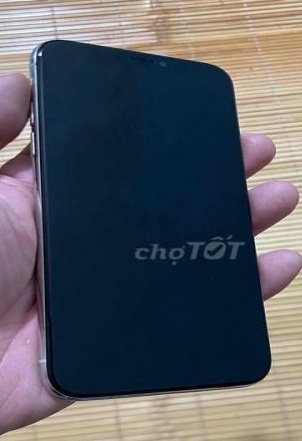scratch: (31, 45, 52, 59)
